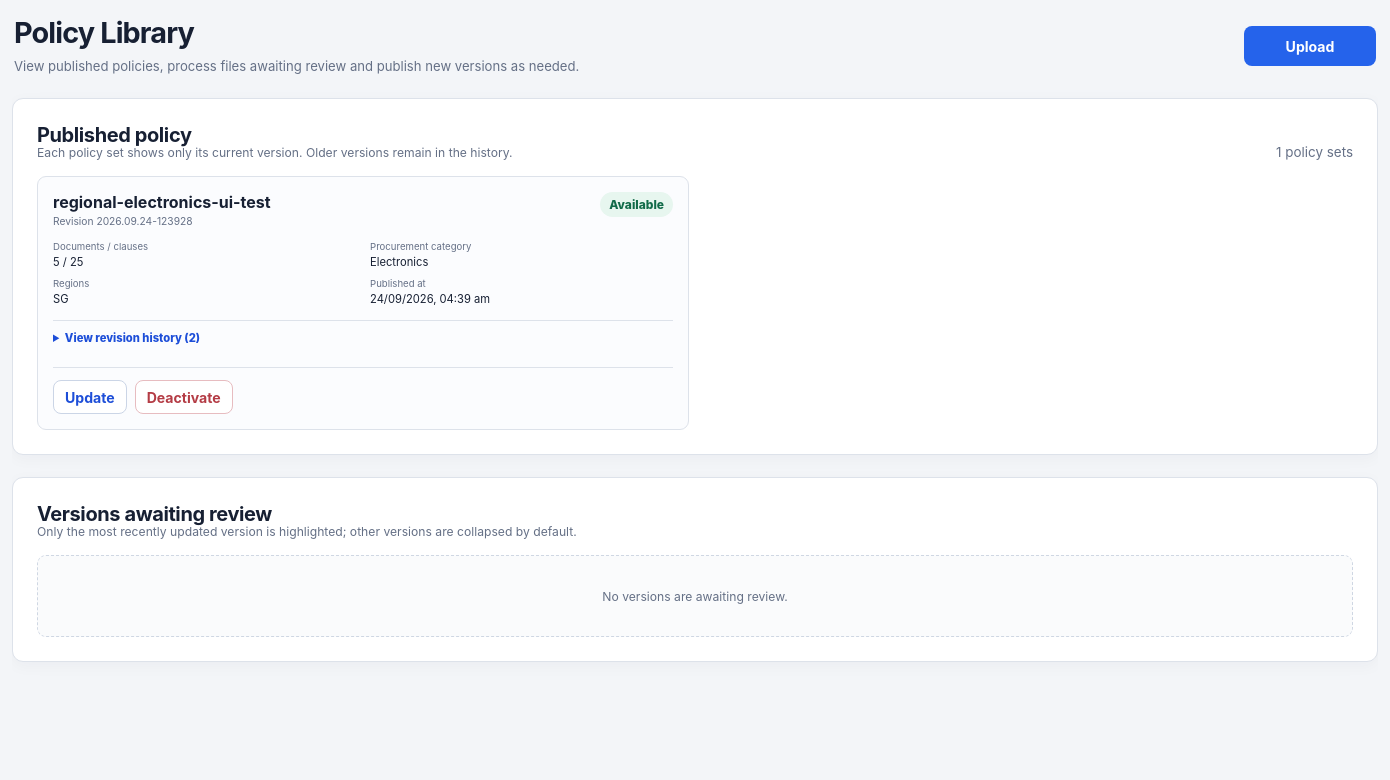
it: frontend and backend version consistency › policy management groups old versions under the current policy set
Expected: the text "1 policy sets" is shown, [1276,144,1353,160]
Expected: the text "regional-electronics-ui-test" is shown once, [53,192,271,212]
Click the heading "View revision history (2)": x=132, y=338 [65,332,200,346]
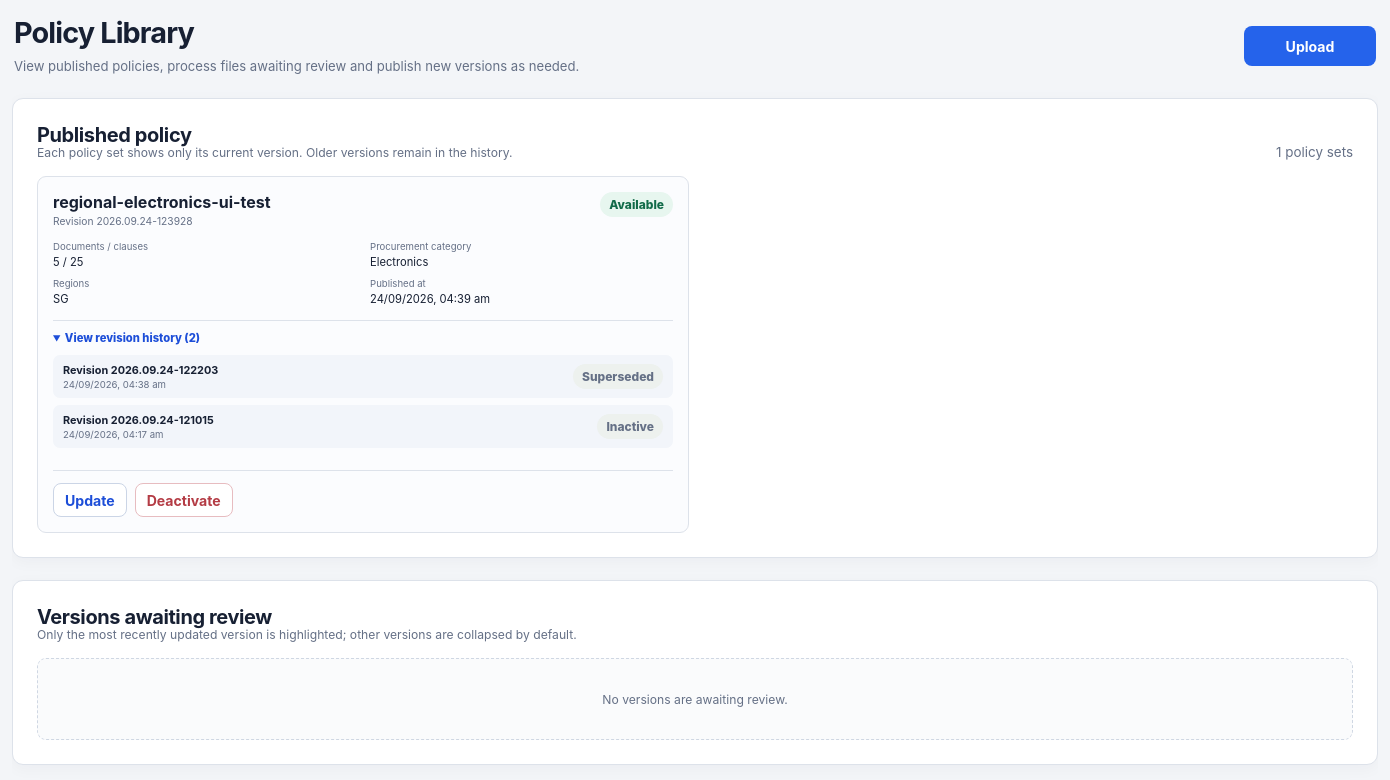
Expected: the text "Revision 2026.09.24-122203" is shown, [63,364,218,378]
Expected: the text "Revision 2026.09.24-121015" is shown, [63,414,214,428]
Expected: the text "Superseded" is shown, [573,364,663,390]
